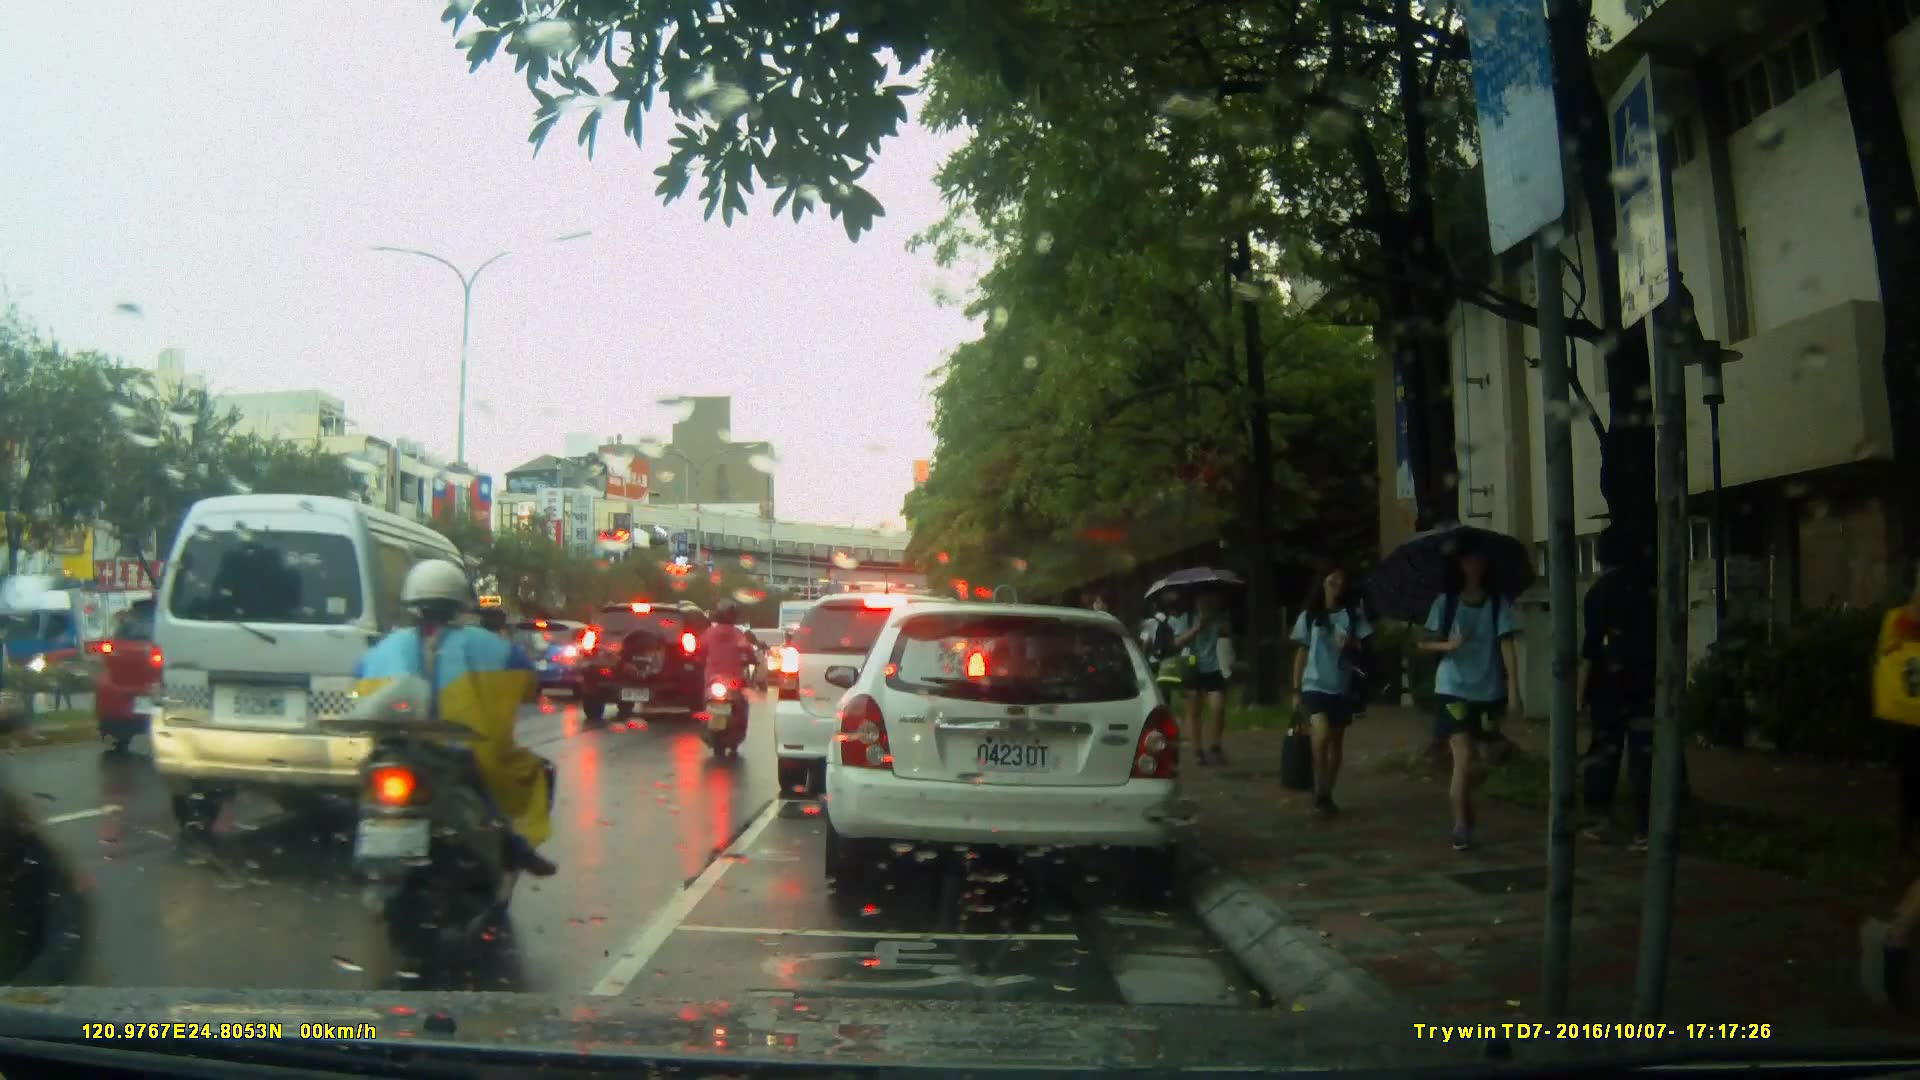pedestrian: (1395, 536, 1530, 858), (1572, 523, 1682, 868), (1277, 561, 1371, 828), (1878, 430, 1920, 1011), (1171, 581, 1238, 774)
rider: (341, 549, 556, 966), (693, 599, 760, 758)
vehicle: (144, 491, 496, 859), (815, 593, 1204, 909), (770, 590, 994, 802), (576, 603, 737, 726)
